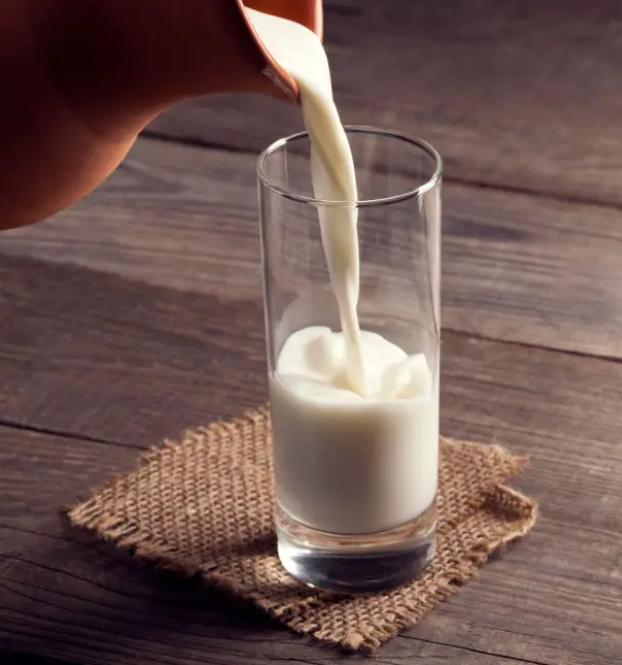produk_susu: (273, 140, 432, 562)
